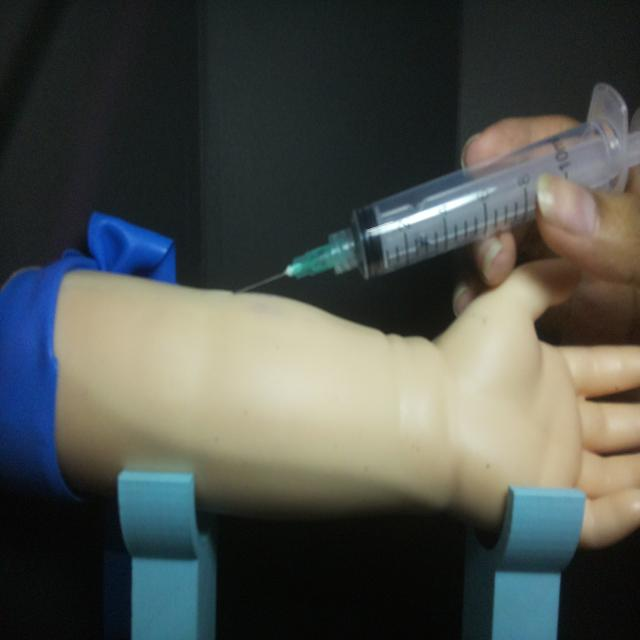20deg: (231, 79, 637, 298)
